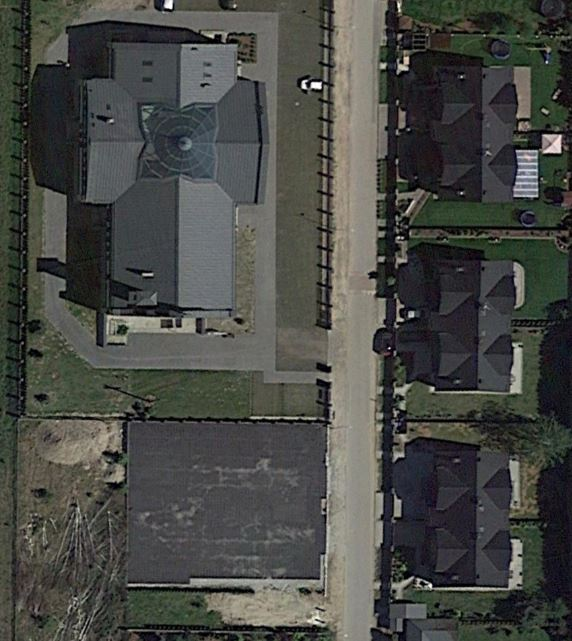church: (73, 39, 277, 340)
terrace house: (419, 59, 530, 212), (411, 244, 522, 397), (409, 440, 520, 593)
